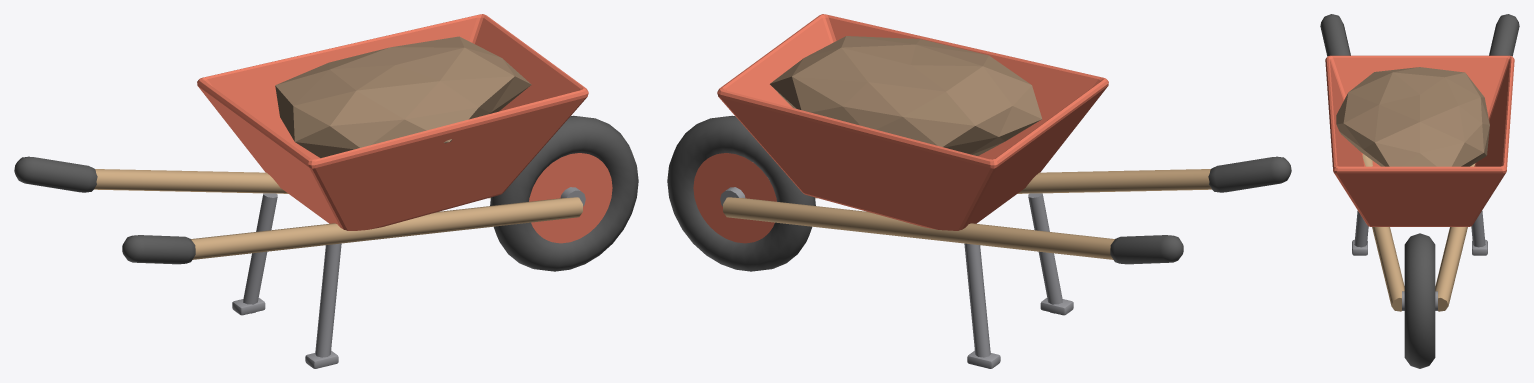
File: wheelbarrow.glb
3 views of the same model, side by side, from view 1: azimuth 30°, elevation 25°; view 2: azimuth 150°, elevation 25°; view 3: azimuth 270°, elevation 25° (orthographic). The views are drawn at different scales.
Visible parts, largest first — view 1: wheelbarrow; view 2: wheelbarrow; view 3: wheelbarrow.
Boxes of the visible parts, x1,y1,x2,y2 form: wheelbarrow: [14, 14, 638, 368]; wheelbarrow: [667, 14, 1291, 368]; wheelbarrow: [1320, 14, 1519, 368].
Bounding box in the file's own units: 1.34 × 0.5579 × 0.4992.
